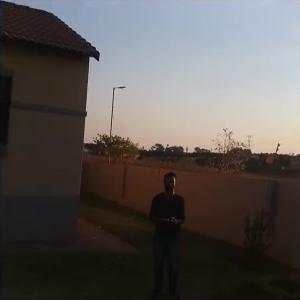follow: (144, 165, 189, 298)
